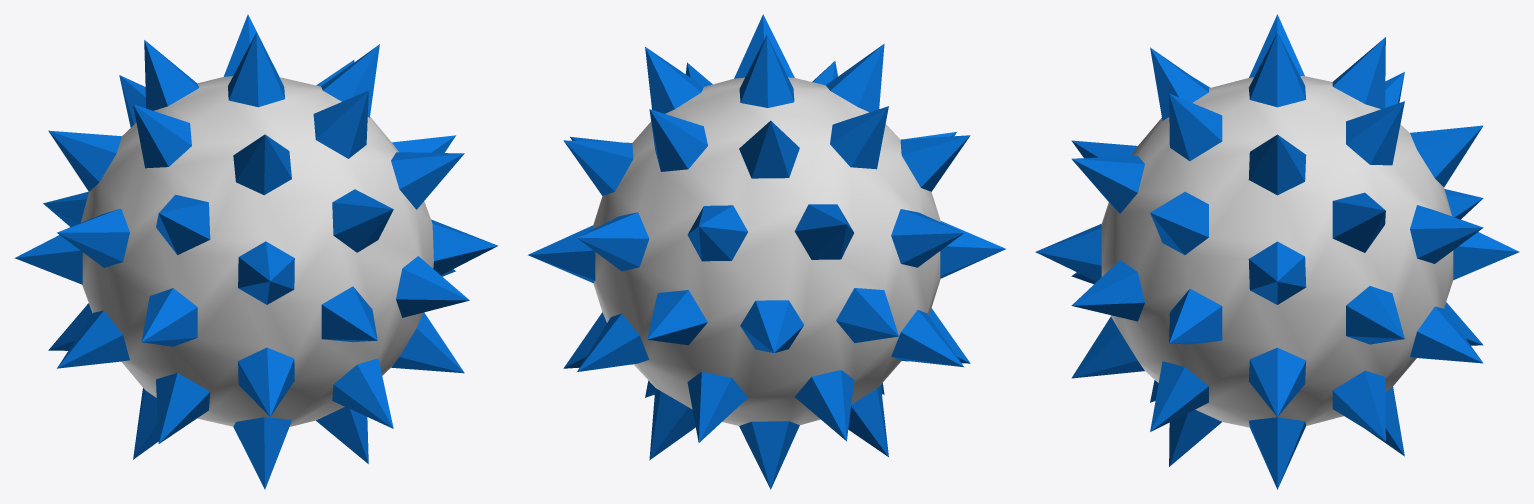
The model's file is Germ.fbx.
The picture shows the model from 3 angles, left to right: view 1: azimuth 30°, elevation 25°; view 2: azimuth 150°, elevation 25°; view 3: azimuth 270°, elevation 25°; orthographic projection.
Parts seen in each view (by area): view 1: GeoSphere002; view 2: GeoSphere002; view 3: GeoSphere002.
Part boxes in pixels (box(x1,y1,x2,y2)): GeoSphere002: box(14, 14, 498, 489); GeoSphere002: box(528, 14, 1005, 489); GeoSphere002: box(1035, 14, 1519, 489).
Bounding box in the file's own units: 234 × 246 × 246.
